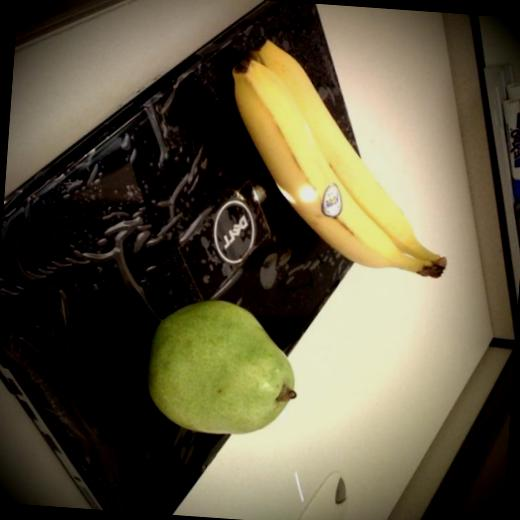Banana: (235, 33, 459, 268)
